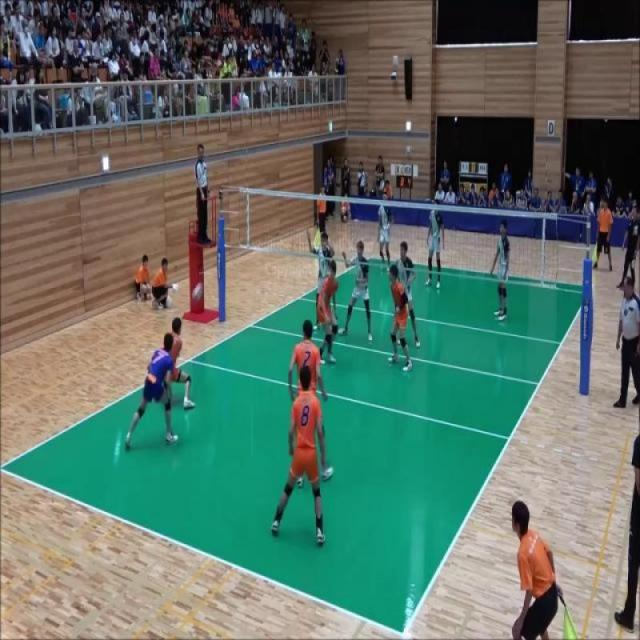volleyball: (191, 282, 204, 301)
